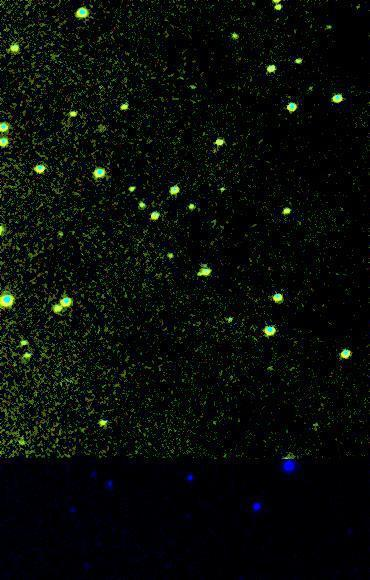star: (43, 291, 73, 321)
